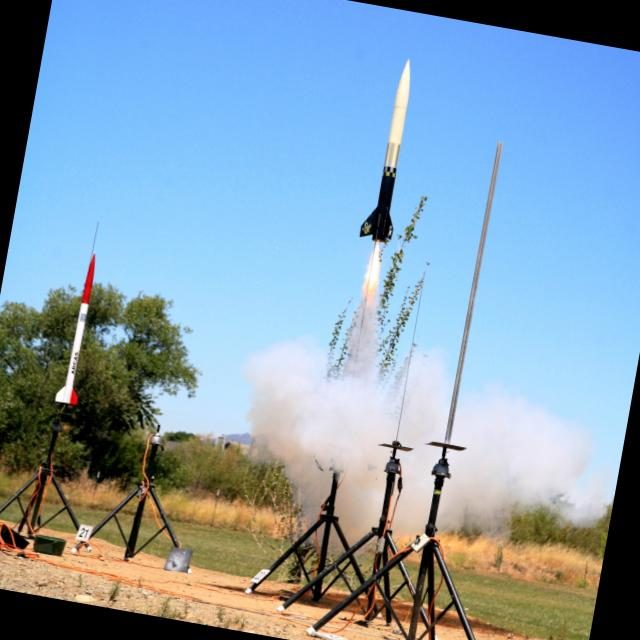rocket: (341, 54, 429, 361)
